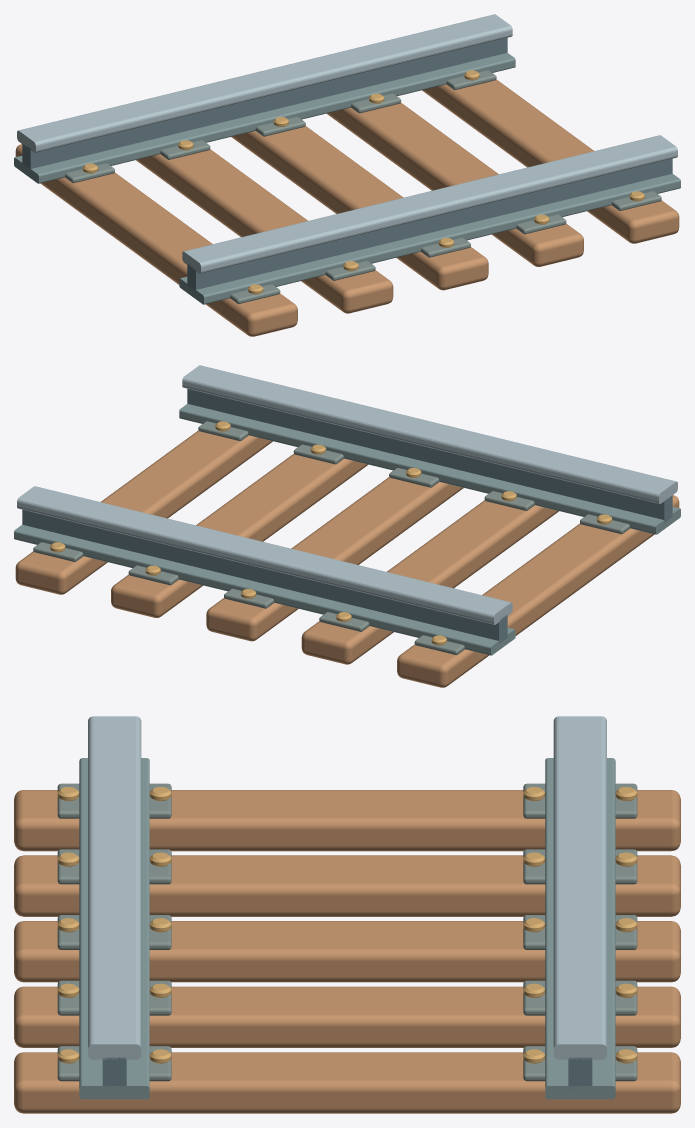
Rendered from straight_track_v01.glb.
3 renders of one model, top to bottom at view 1: azimuth 30°, elevation 25°; view 2: azimuth 150°, elevation 25°; view 3: azimuth 270°, elevation 25°, orthographic. The views are drawn at different scales.
Parts seen in each view (by area): view 1: RoundedRunningHead2, RoundedRunningHead, RoundedTimber, RoundedTimber3, RoundedTimber2, RoundedTimber5, RoundedTimber4, RecessedRailWeb2, RecessedRailWeb, WideRailFoot, WideRailFoot2, SteelSeatPlate8 (+2 smaller); view 2: RoundedRunningHead2, RoundedRunningHead, RoundedTimber, RoundedTimber3, RoundedTimber2, RoundedTimber5, RoundedTimber4, RecessedRailWeb, RecessedRailWeb2, WideRailFoot2, WideRailFoot, SteelSeatPlate7 (+2 smaller); view 3: RoundedTimber5, RoundedTimber, RoundedTimber2, RoundedTimber3, RoundedTimber4, RoundedRunningHead, RoundedRunningHead2, WideRailFoot, WideRailFoot2, SteelSeatPlate3, SteelSeatPlate4, SteelSeatPlate9 (+9 smaller).
Boxes of the visible parts, x1,y1,x2,y2 form: RoundedRunningHead2: (182,135,677,273); RoundedRunningHead: (17,14,512,152); RoundedTimber: (15,144,297,336); RoundedTimber3: (231,126,488,290); RoundedTimber2: (136,149,393,313); RoundedTimber5: (422,79,679,243); RoundedTimber4: (326,103,583,266); RecessedRailWeb2: (187,158,672,289); RecessedRailWeb: (22,37,507,170); WideRailFoot: (14,53,515,183); WideRailFoot2: (179,173,680,304); SteelSeatPlate8: (516,214,566,234); RoundedRunningHead2: (182,365,677,503); RoundedRunningHead: (17,486,512,624); RoundedTimber: (397,495,679,687); RoundedTimber3: (206,477,463,641); RoundedTimber2: (301,500,558,664); RoundedTimber5: (15,430,272,594); RoundedTimber4: (111,454,368,617); RecessedRailWeb: (22,509,507,643); RecessedRailWeb2: (187,388,672,522); WideRailFoot2: (179,404,680,534); WideRailFoot: (14,524,515,655); SteelSeatPlate7: (128,565,178,585); RoundedTimber5: (14,1052,680,1113); RoundedTimber: (14,790,680,851); RoundedTimber2: (14,855,680,916); RoundedTimber3: (14,921,680,982); RoundedTimber4: (14,986,680,1047); RoundedRunningHead: (553,716,606,1059); RoundedRunningHead2: (88,716,141,1059); WideRailFoot: (545,758,615,1099); WideRailFoot2: (79,758,149,1099); SteelSeatPlate3: (523,849,637,884); SteelSeatPlate4: (57,849,171,884); SteelSeatPlate9: (523,1046,637,1081).
Size of the model in its own units: 3.2 by 0.4 by 2.75.
